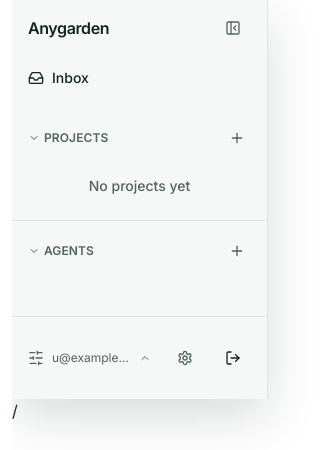
Scenario: Sidebar — footer admin menu (#699) › navigates using the existing sidebar action and closes the mobile drawer
Click the button named "Admin settings" at (185, 358), box [163,336,207,380]
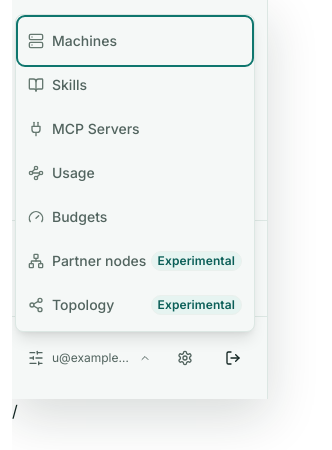
Click the button "Skills" at (135, 85), box [20,63,250,107]
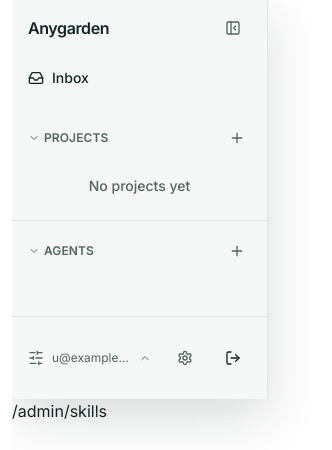
Now the text with test id "current-path" reads "/admin/skills", box [12,401,107,421]
